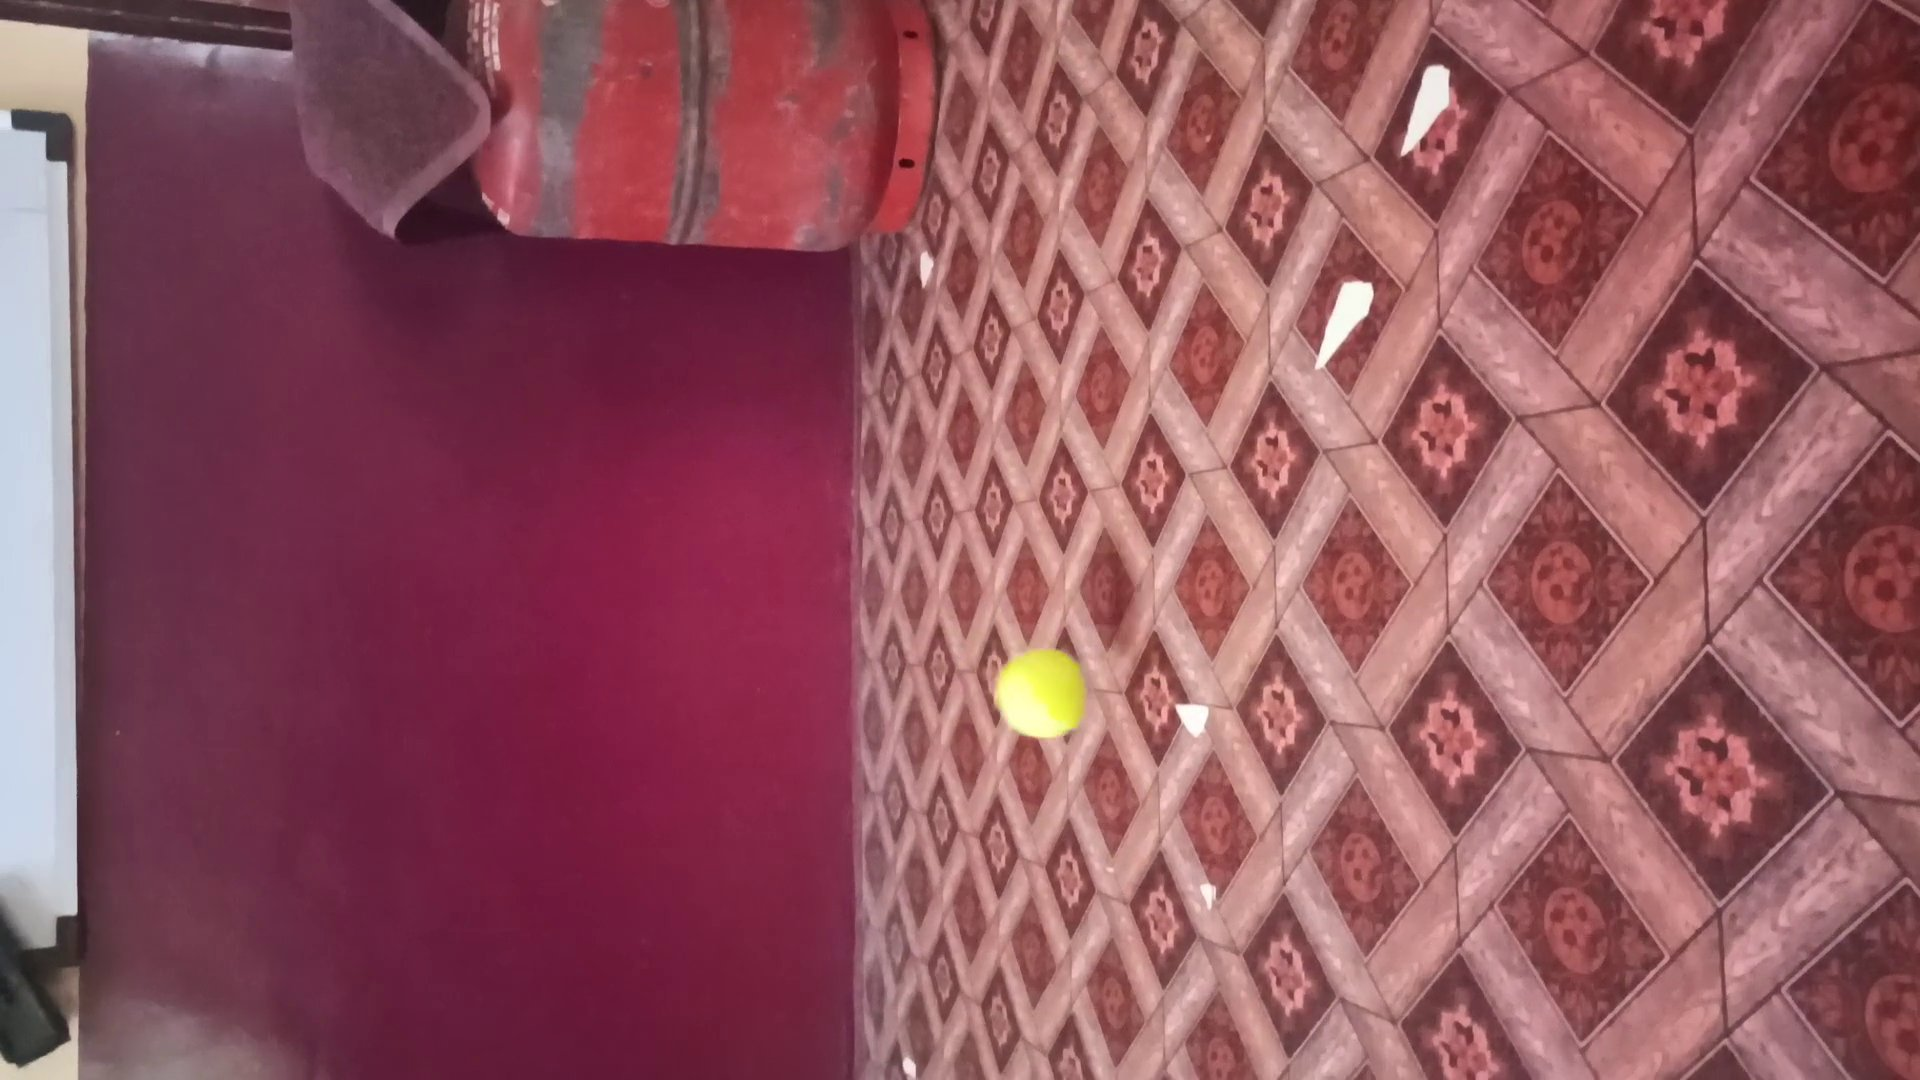Tennis-Ball: (992, 650, 1089, 740)
